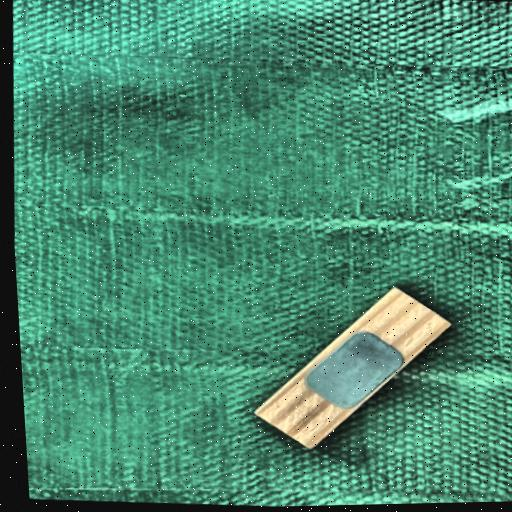objects: (253, 274, 452, 463)
